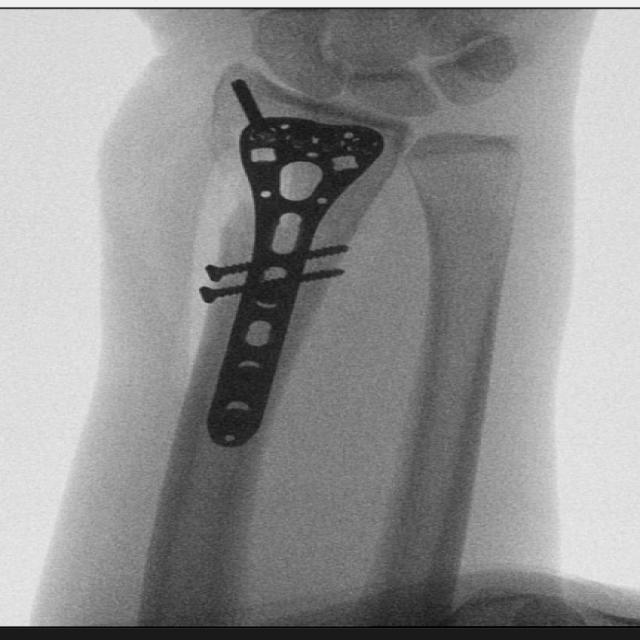x-ray: (189, 69, 395, 456)
